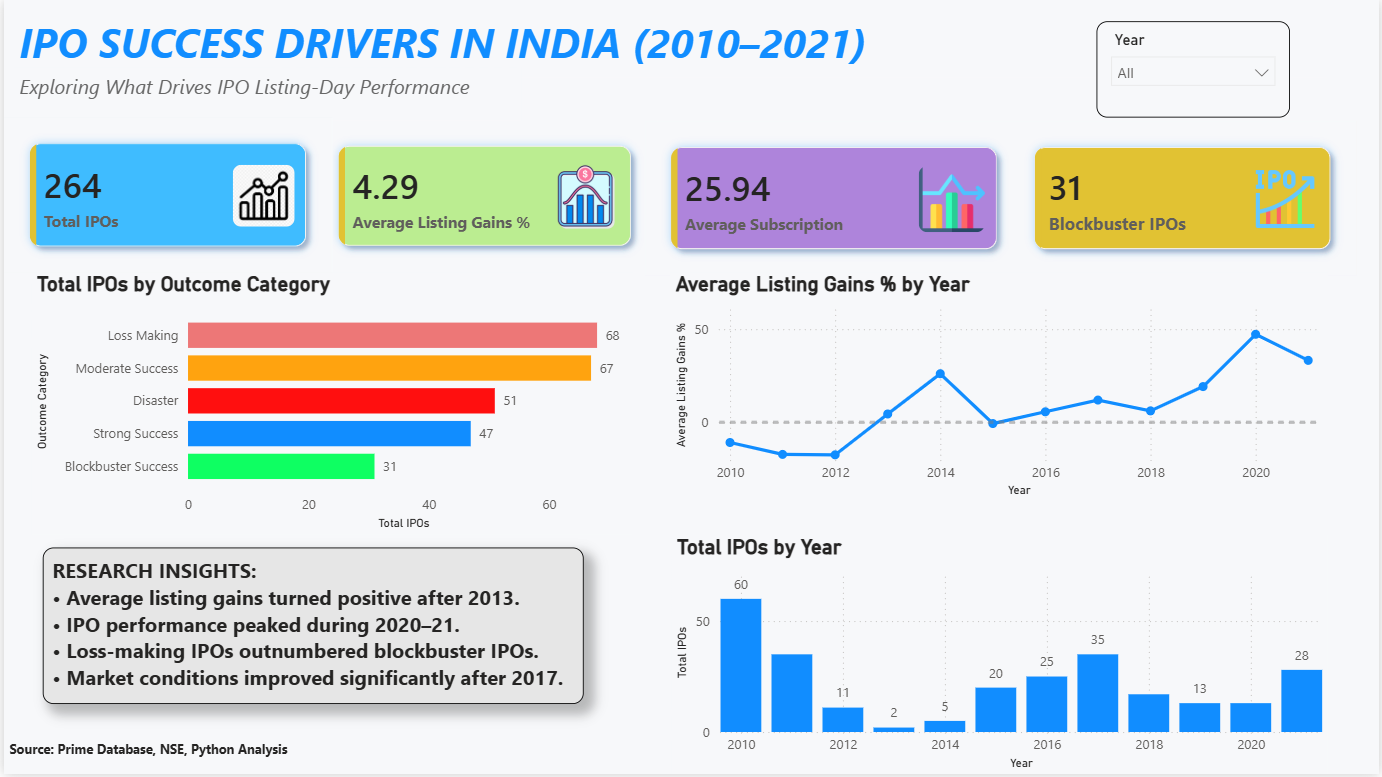

What the dashboard file says about the page in this screenshot:
{"tool":"powerbi","page":{"name":"Market Overview","canvas":[1280,720],"ordinal":0},"visuals":[{"type":"cardVisual","fields":{"Data":["Avg(Sheet1.Listing_gains_percent)"]},"box":[287.2,111.6,320.9,141.9],"z":0},{"type":"cardVisual","fields":{"Data":["Avg(Sheet1.Total_subscription)"]},"box":[596.5,112.8,351.2,143],"z":1000},{"type":"cardVisual","fields":{"Data":["Dashboard_data.Blockbuster IPOs"]},"box":[934.9,112.8,323.3,143],"z":2000},{"type":"clusteredBarChart","fields":{"Category":["Dashboard_data.Outcome_category"],"Y":["CountNonNull(Dashboard_data.Ipo_name)"]},"box":[25.6,253.5,559.3,244.2],"z":3000},{"type":"lineChart","fields":{"Y":["Avg(Dashboard_data.Listing_gains_percent)"],"Category":["Dashboard_data.Year"]},"box":[619.8,253.5,611.6,214],"z":4000},{"type":"clusteredColumnChart","fields":{"Category":["Dashboard_data.Year"],"Y":["CountNonNull(Dashboard_data.Ipo_name)"]},"box":[620.9,497.7,610.5,223.3],"z":5000},{"type":"textbox","box":[36,509.3,503.5,145.3],"z":6000},{"type":"textbox","box":[9.6,9.6,1221.3,63.1],"z":7000},{"type":"textbox","box":[9.6,63.1,472,49.4],"z":8000},{"type":"cardVisual","fields":{"Data":["CountNonNull(Dashboard_data.Ipo_name)"]},"box":[0,109.3,305.8,144.2],"z":9000},{"type":"slicer","fields":{"Values":["Dashboard_data.Year"]},"box":[1016.3,19.8,180.2,89.5],"z":10000},{"type":"textbox","box":[0,682.6,305.8,37.2],"z":11000}]}

Visuals, with their boxes in screenshot pixels (x1, y1, x2, y2), scaled from the page's 1280x720 canvas onto the 1382x777 screenshot:
cardVisual - Avg(Sheet1.Listing_gains_percent): [left=310, top=120, right=657, bottom=274]
cardVisual - Avg(Sheet1.Total_subscription): [left=644, top=122, right=1023, bottom=276]
cardVisual - Dashboard_data.Blockbuster IPOs: [left=1009, top=122, right=1358, bottom=276]
clusteredBarChart - Dashboard_data.Outcome_category x CountNonNull(Dashboard_data.Ipo_name): [left=28, top=274, right=632, bottom=537]
lineChart - Avg(Dashboard_data.Listing_gains_percent) x Dashboard_data.Year: [left=669, top=274, right=1330, bottom=505]
clusteredColumnChart - Dashboard_data.Year x CountNonNull(Dashboard_data.Ipo_name): [left=670, top=537, right=1330, bottom=776]
textbox: [left=39, top=550, right=582, bottom=706]
textbox: [left=10, top=10, right=1329, bottom=78]
textbox: [left=10, top=68, right=520, bottom=121]
cardVisual - CountNonNull(Dashboard_data.Ipo_name): [left=0, top=118, right=330, bottom=274]
slicer - Dashboard_data.Year: [left=1097, top=21, right=1292, bottom=118]
textbox: [left=0, top=737, right=330, bottom=776]
